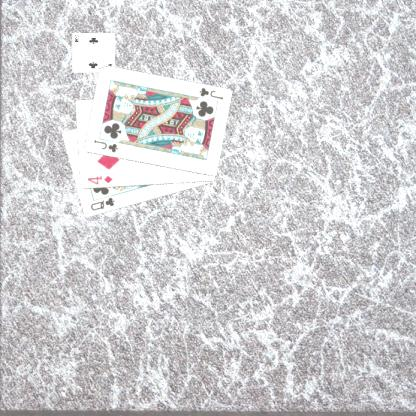4D: (84, 173, 113, 186)
JC: (90, 137, 118, 154), (196, 85, 224, 101)
QC: (88, 195, 116, 212)
